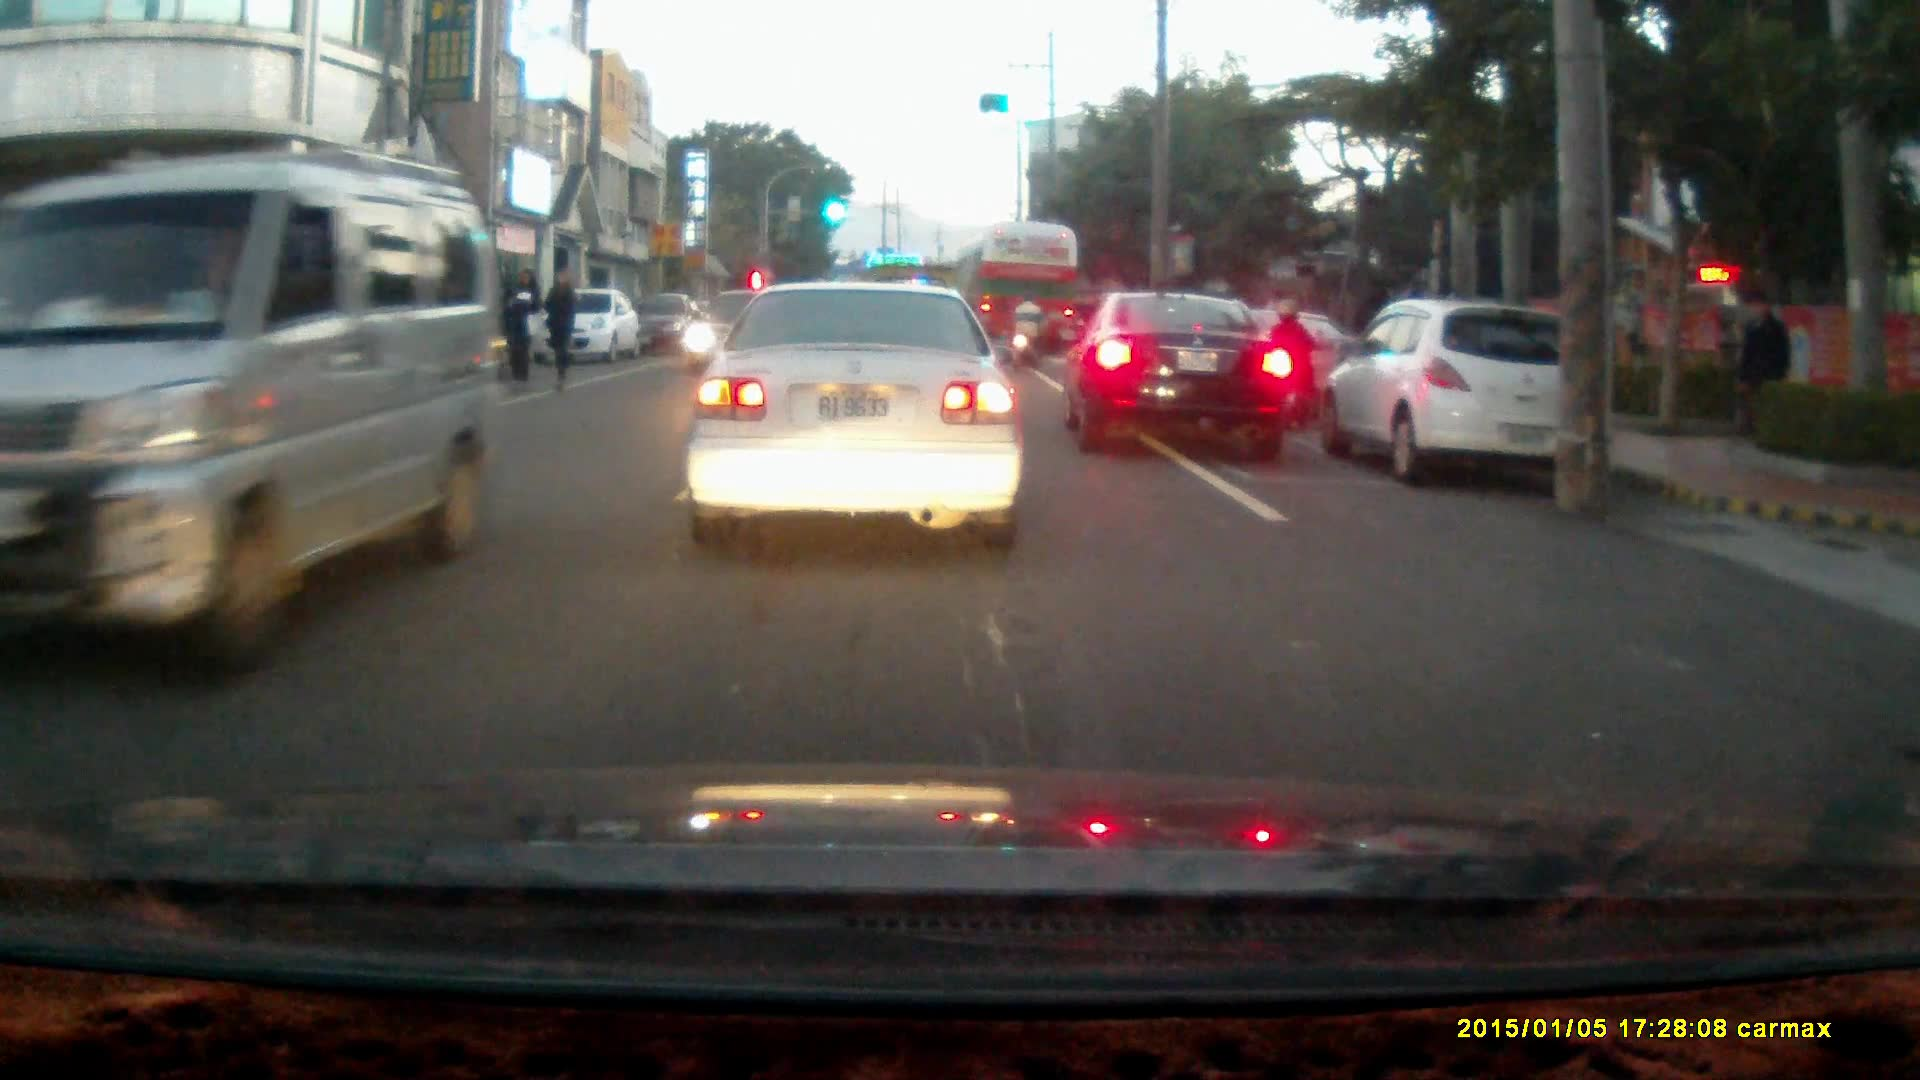pedestrian: (1734, 288, 1793, 452), (499, 264, 540, 384), (540, 263, 577, 394)
rider: (1269, 299, 1325, 436), (1009, 292, 1045, 369)
vehicle: (1, 147, 500, 698), (679, 281, 1028, 556), (1313, 296, 1603, 490), (1063, 293, 1296, 464), (965, 221, 1084, 362), (682, 287, 799, 382), (532, 287, 640, 363)
